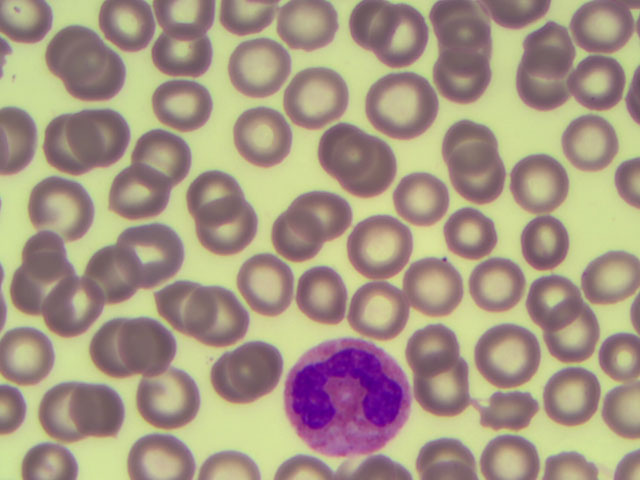RBC: (482, 423, 544, 480), (132, 423, 194, 480), (3, 323, 65, 380), (42, 25, 104, 81), (65, 45, 127, 101), (94, 1, 156, 57), (149, 21, 211, 77), (227, 38, 289, 94), (284, 67, 346, 123), (235, 108, 297, 164), (151, 81, 213, 137), (138, 123, 200, 179), (102, 162, 164, 218), (77, 110, 139, 166), (39, 118, 101, 174), (26, 175, 88, 231), (17, 217, 79, 273), (6, 260, 68, 316), (39, 278, 101, 334), (83, 242, 145, 298), (134, 225, 196, 281), (203, 201, 265, 257), (189, 165, 251, 221), (264, 212, 326, 268), (307, 184, 369, 240), (350, 140, 412, 196), (321, 121, 383, 177), (365, 77, 427, 133), (375, 14, 437, 70), (344, 1, 406, 57), (437, 48, 499, 104), (434, 6, 496, 62), (437, 111, 499, 167), (447, 148, 509, 204), (395, 168, 457, 224), (351, 215, 413, 271), (348, 282, 410, 338), (296, 268, 358, 324), (238, 256, 300, 312), (187, 290, 249, 346), (147, 281, 209, 337), (127, 310, 189, 366), (84, 314, 146, 370), (69, 383, 131, 439), (35, 389, 97, 445), (132, 364, 194, 420), (228, 343, 290, 399), (400, 315, 462, 371), (405, 257, 467, 313), (448, 202, 510, 258), (467, 253, 529, 309), (509, 213, 571, 269), (509, 154, 571, 210), (562, 113, 624, 169), (563, 57, 625, 113), (517, 56, 579, 112), (531, 13, 593, 69), (576, 2, 638, 58), (578, 244, 640, 300), (520, 272, 582, 328), (541, 309, 603, 365), (486, 323, 548, 379), (535, 364, 597, 420), (482, 383, 544, 439), (408, 366, 470, 422), (280, 1, 342, 56)
WBC: (285, 332, 413, 460)
